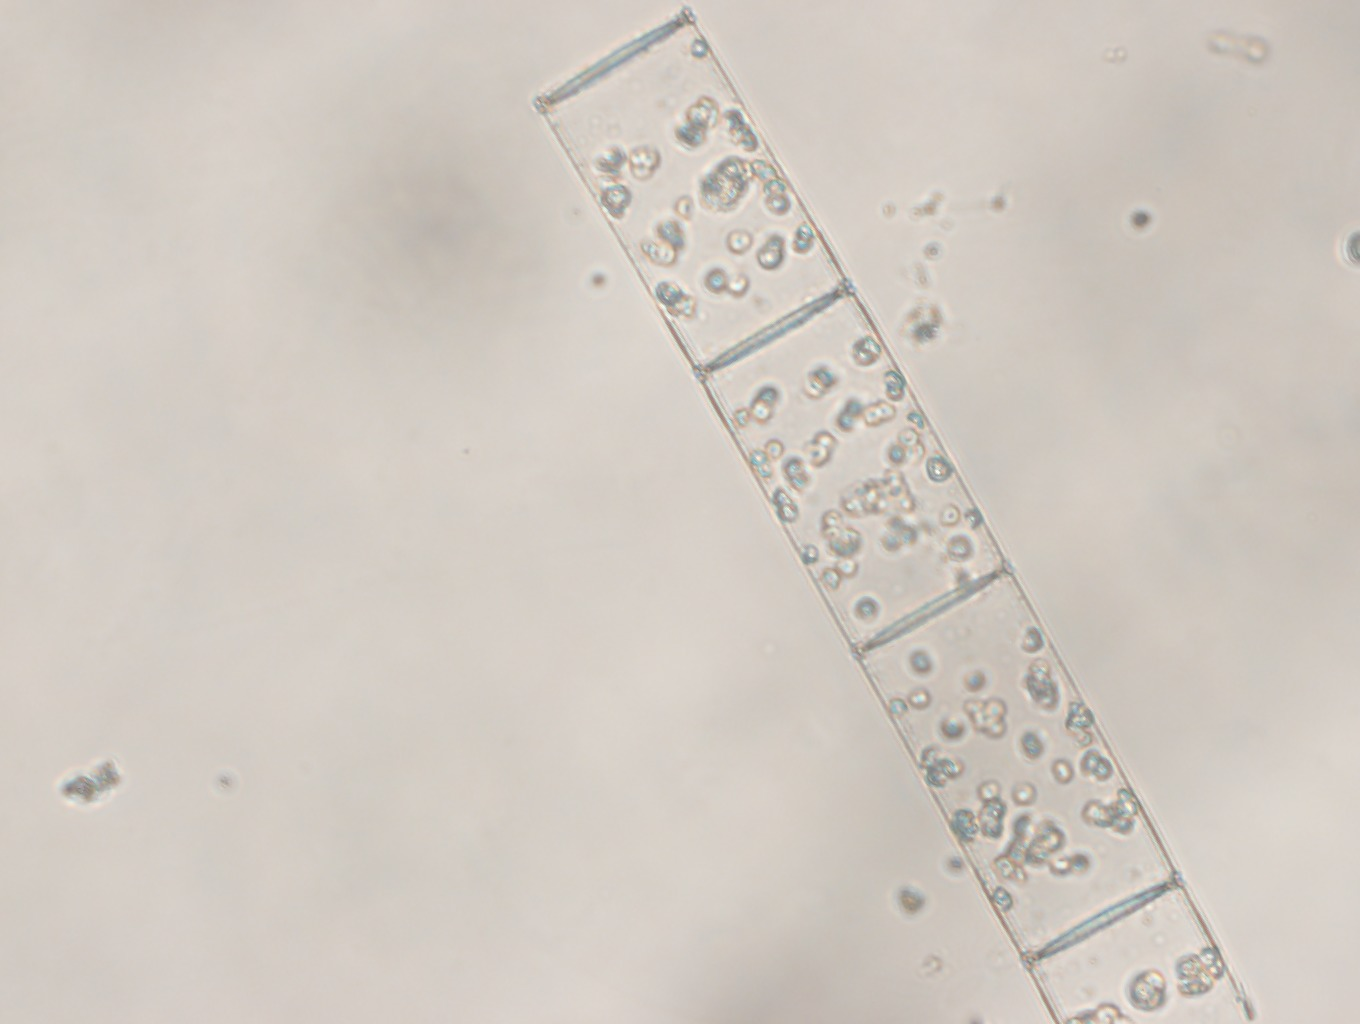guinardia flaccida: (532, 3, 1256, 1023)
